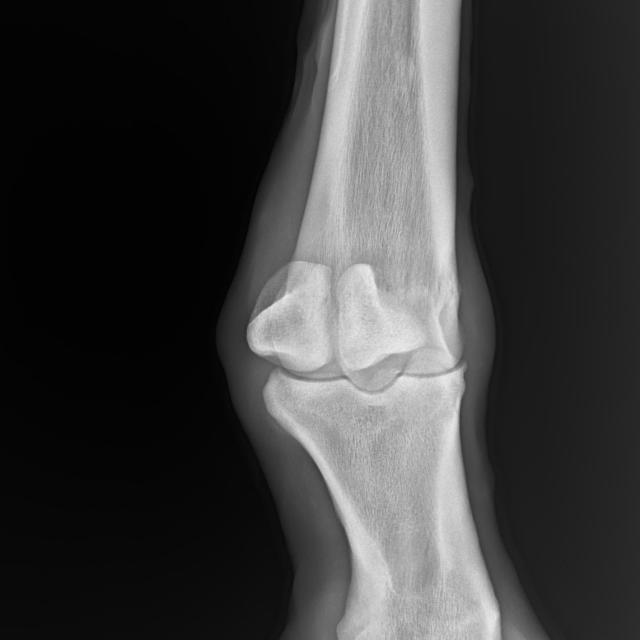joint-ht8A: (171, 151, 540, 504)
